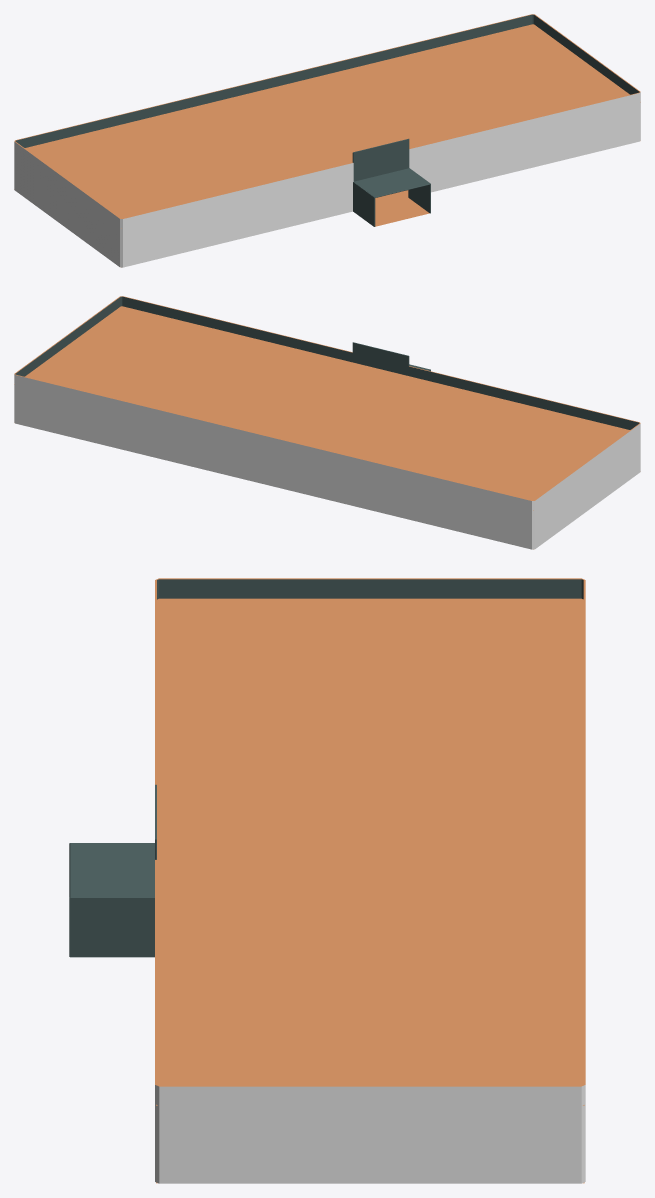
File: room 14.obj
The picture shows the model from 3 angles, top to bottom: view 1: azimuth 30°, elevation 25°; view 2: azimuth 150°, elevation 25°; view 3: azimuth 270°, elevation 25°; orthographic projection. The views are drawn at different scales.
Parts seen in each view (by area): view 1: result.025_Cube.024, wall.255_wall.002, wall.254_wall.002, wall.257_wall.002, wall.256_wall.002, wall.247_wall.018, wall.172_wall.019, wall.258_wall.002, wall.251_wall.015, wall.248_wall.018, wall.252_wall.015, wall.249_wall.018; view 2: result.025_Cube.024, wall.257_wall.002, wall.256_wall.002, wall.255_wall.002, wall.254_wall.002, wall.247_wall.018, wall.258_wall.002, wall.250_wall.015, wall.253_wall.015; view 3: result.025_Cube.024, wall.258_wall.002, wall.256_wall.002, wall.249_wall.018, wall.172_wall.019, wall.253_wall.015, wall.252_wall.015, wall.257_wall.002.
Part boxes in pixels (x1,y1,x2,y2): result.025_Cube.024: (25, 24, 640, 228); wall.255_wall.002: (130, 162, 353, 265); wall.254_wall.002: (409, 94, 631, 192); wall.257_wall.002: (23, 16, 524, 147); wall.256_wall.002: (19, 144, 115, 263); wall.247_wall.018: (352, 138, 409, 181); wall.172_wall.019: (354, 168, 430, 197); wall.258_wall.002: (538, 18, 635, 94); wall.251_wall.015: (115, 215, 130, 267); wall.248_wall.018: (353, 182, 375, 226); wall.252_wall.015: (632, 88, 640, 143); wall.249_wall.018: (408, 184, 430, 213); result.025_Cube.024: (14, 306, 629, 510); wall.257_wall.002: (23, 376, 524, 547); wall.256_wall.002: (539, 426, 635, 545); wall.255_wall.002: (408, 366, 631, 429); wall.254_wall.002: (130, 298, 352, 362); wall.247_wall.018: (352, 342, 409, 375); wall.258_wall.002: (19, 300, 116, 376); wall.250_wall.015: (524, 497, 539, 549); wall.253_wall.015: (14, 370, 22, 425); result.025_Cube.024: (156, 598, 584, 1183); wall.258_wall.002: (177, 1085, 563, 1183); wall.256_wall.002: (177, 578, 563, 598); wall.249_wall.018: (69, 897, 154, 957); wall.172_wall.019: (69, 843, 154, 898); wall.253_wall.015: (563, 1077, 585, 1183); wall.252_wall.015: (155, 1077, 177, 1183); wall.257_wall.002: (583, 587, 585, 1076).
Bounding box in the file's own units: 56.1 × 6.04 × 24.1.
